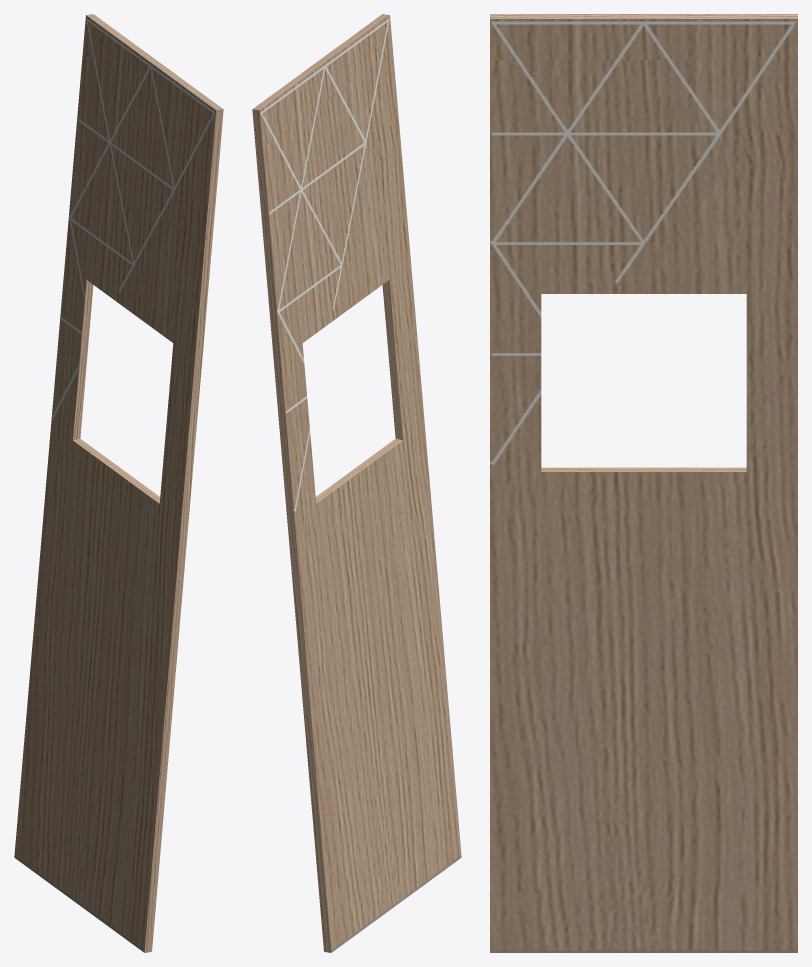
Rendered from AITHOUSA I_a_part3.fbx.
The picture shows the model from 3 angles, left to right: view 1: azimuth 30°, elevation 25°; view 2: azimuth 150°, elevation 25°; view 3: azimuth 270°, elevation 25°; orthographic projection. The views are drawn at different scales.
Visible parts, largest first — view 1: Mass Element <Standard> Body; view 2: Mass Element <Standard> Body; view 3: Mass Element <Standard> Body.
Part boxes in pixels (x1,y1,x2,y2): Mass Element <Standard> Body: (14, 14, 223, 952); Mass Element <Standard> Body: (252, 14, 461, 952); Mass Element <Standard> Body: (490, 14, 797, 952).
Bounding box in the file's own units: 0.2106 × 2.1 × 0.6.
1 material, 1 textured.
